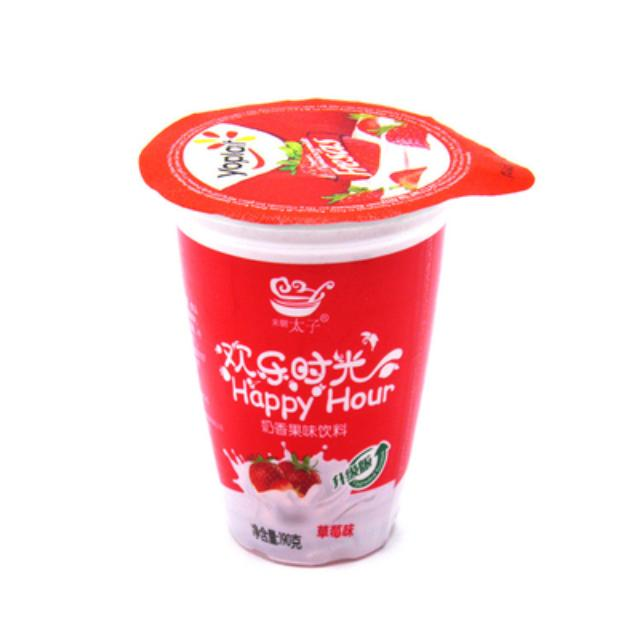yogurt: (136, 96, 534, 568)
